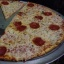pepperoni: (45, 21, 61, 33), (14, 20, 27, 33), (27, 18, 40, 30), (29, 37, 46, 46), (1, 42, 7, 58), (41, 11, 54, 17), (27, 2, 36, 10), (35, 16, 44, 22)
pizza: (1, 2, 63, 58)
